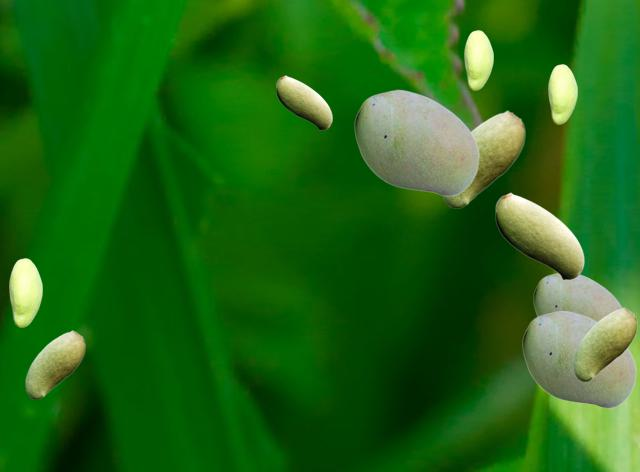green_mango: (354, 89, 478, 195), (522, 310, 635, 407), (442, 110, 524, 207), (495, 192, 583, 279), (573, 307, 636, 380), (533, 273, 621, 320), (25, 330, 84, 398), (276, 75, 331, 129), (9, 258, 41, 326), (548, 64, 576, 123), (464, 30, 492, 89)
